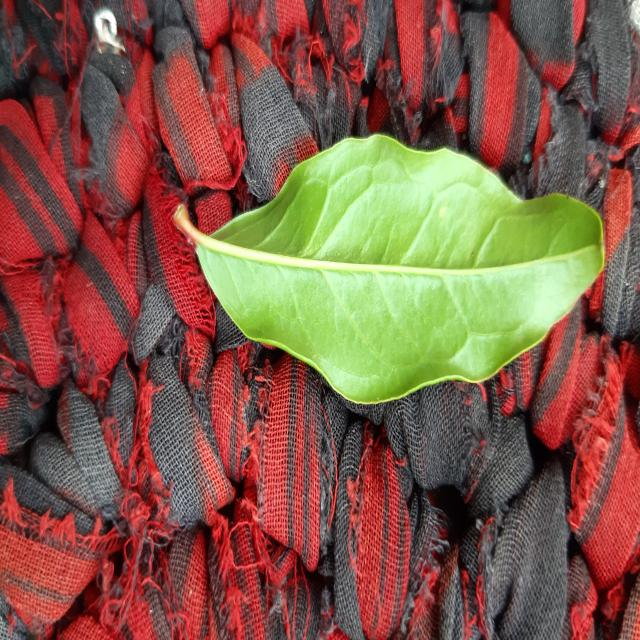pomgranate: (174, 133, 604, 404)
